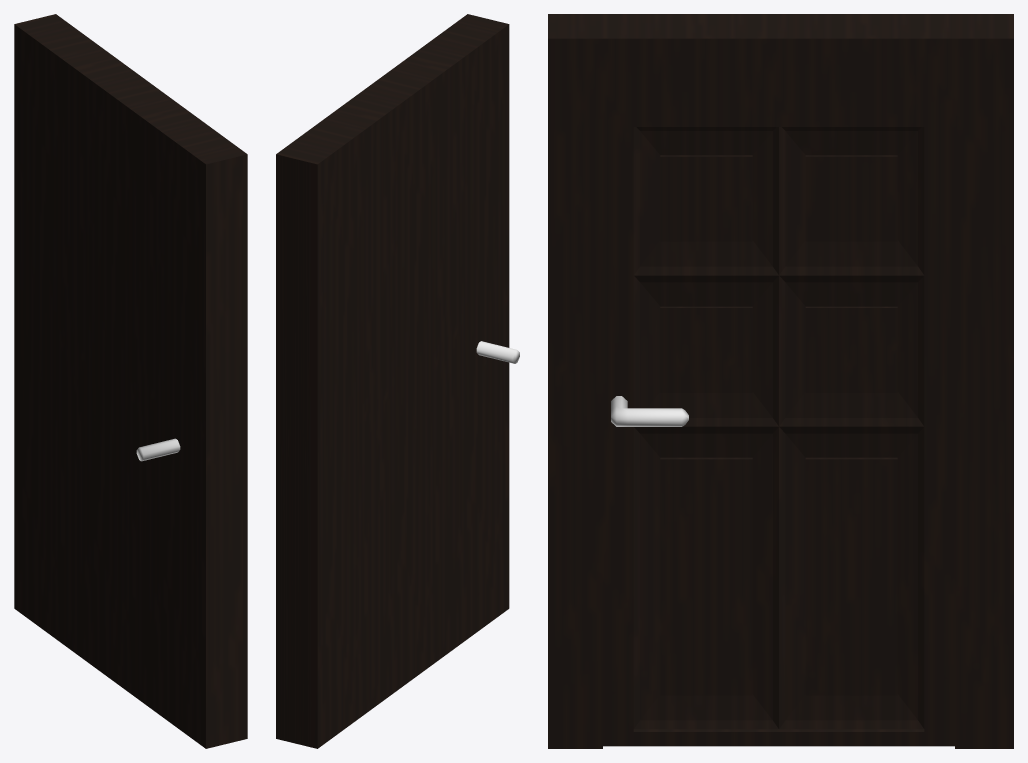
File: doorback.fbx
3 views of the same model, side by side, from view 1: azimuth 30°, elevation 25°; view 2: azimuth 150°, elevation 25°; view 3: azimuth 270°, elevation 25° (orthographic). The views are drawn at different scales.
Parts seen in each view (by area): view 1: Cube, Cube.001; view 2: Cube, Cube.001; view 3: Cube, Cube.001.
Part boxes in pixels (x1,y1,x2,y2): Cube: (14, 14, 247, 748); Cube.001: (136, 438, 180, 461); Cube: (276, 14, 509, 748); Cube.001: (476, 341, 519, 363); Cube: (548, 14, 1013, 748); Cube.001: (611, 396, 688, 426).
Size of the model in its own units: 200 by 1071 by 637.
Materials: 2 (1 with a texture image).
